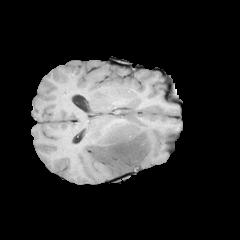glioma: (74, 106, 170, 175)
